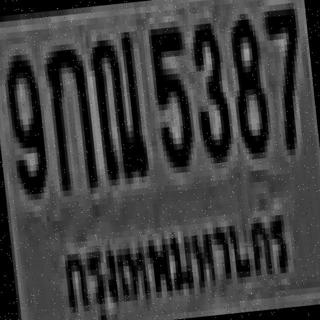A01: (41, 37, 96, 191)
A19: (87, 26, 146, 181)
N03: (186, 17, 231, 158)
N05: (147, 21, 192, 169)
N07: (260, 0, 308, 150)
N08: (226, 7, 270, 154)
N09: (1, 48, 46, 196)
P04: (50, 186, 298, 320)
